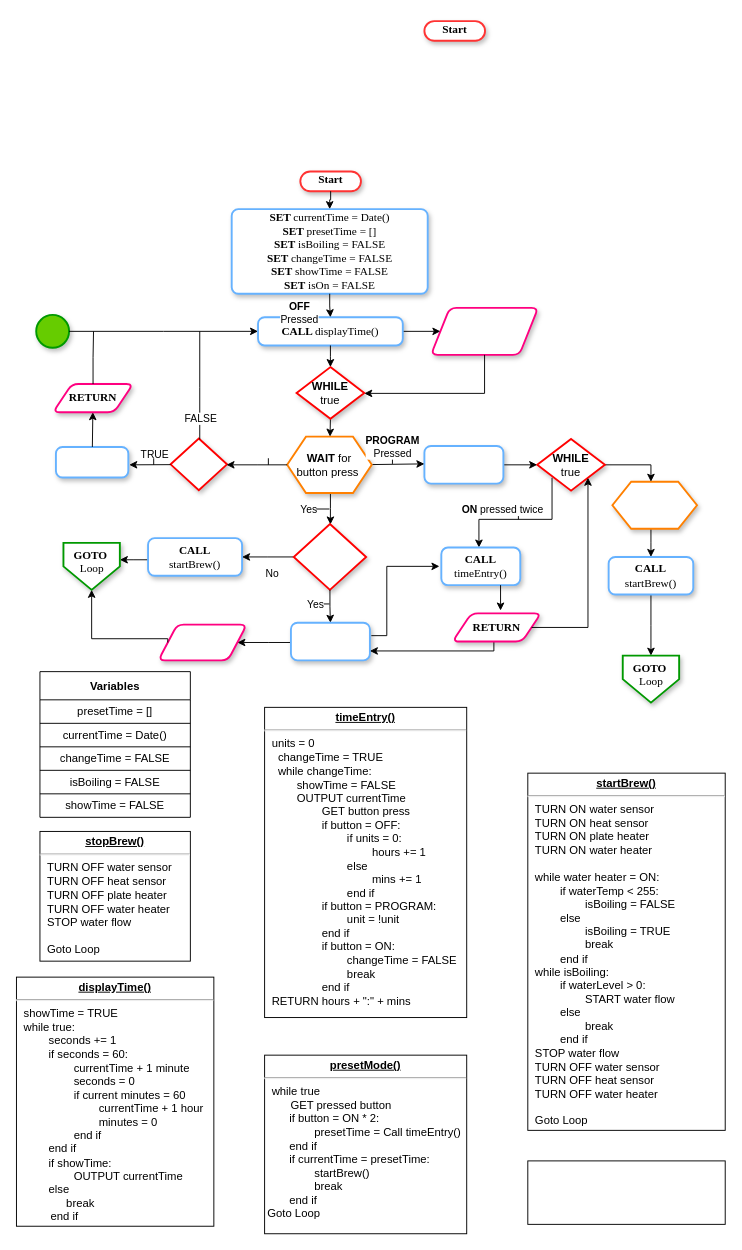
The diagram is 742 pixels wide and 1250 high, and some of its shapes have lost their labels. Here are the shapes that lost their labels. From the top down, the centre of each, then its label:
At point (53, 332): "Loop".
At point (485, 332): "OUTPUT currentTime".
At point (92, 463): "CALL stopBrew()".
At point (199, 465): "IF isOn".
At point (464, 466): "CALL presetMode()".
At point (655, 506): "WAIT for presetTime".
At point (330, 558): "Pressed twice".
At point (203, 643): "RETURN currentTime".
At point (331, 642): "CALL setTime()".
At point (626, 1192): "setTime() currentTime = Call timeEntry() RETURN currentTime".
